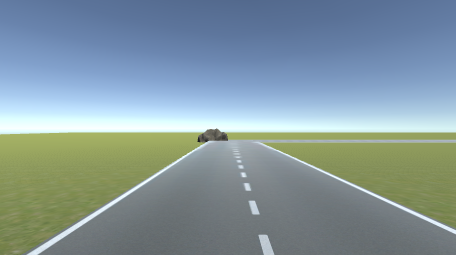rock: (197, 128, 228, 142)
